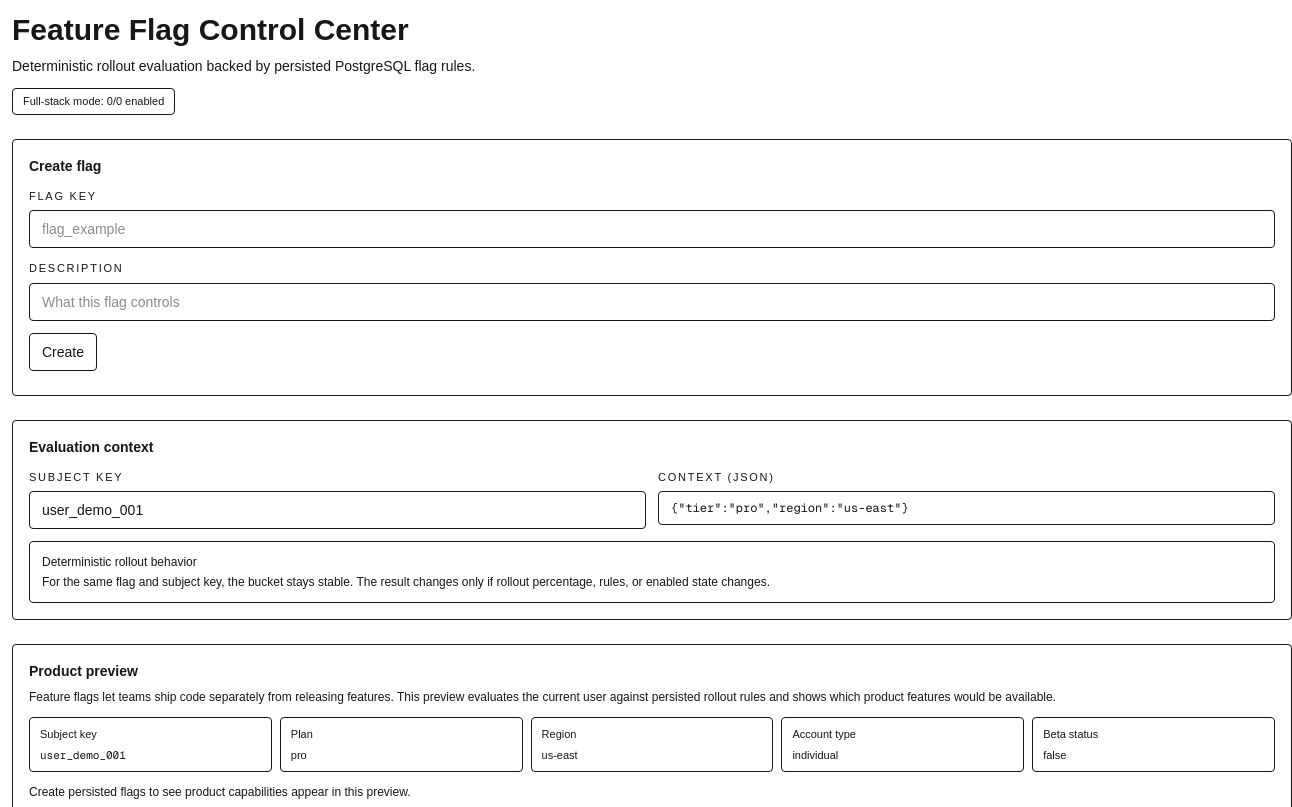
Test case: FlagsControlCenter › maps duplicate-key conflicts to a field error
In the field labelled "Flag key": (652, 229) [29, 210, 1275, 248], type "beta_dashboard"
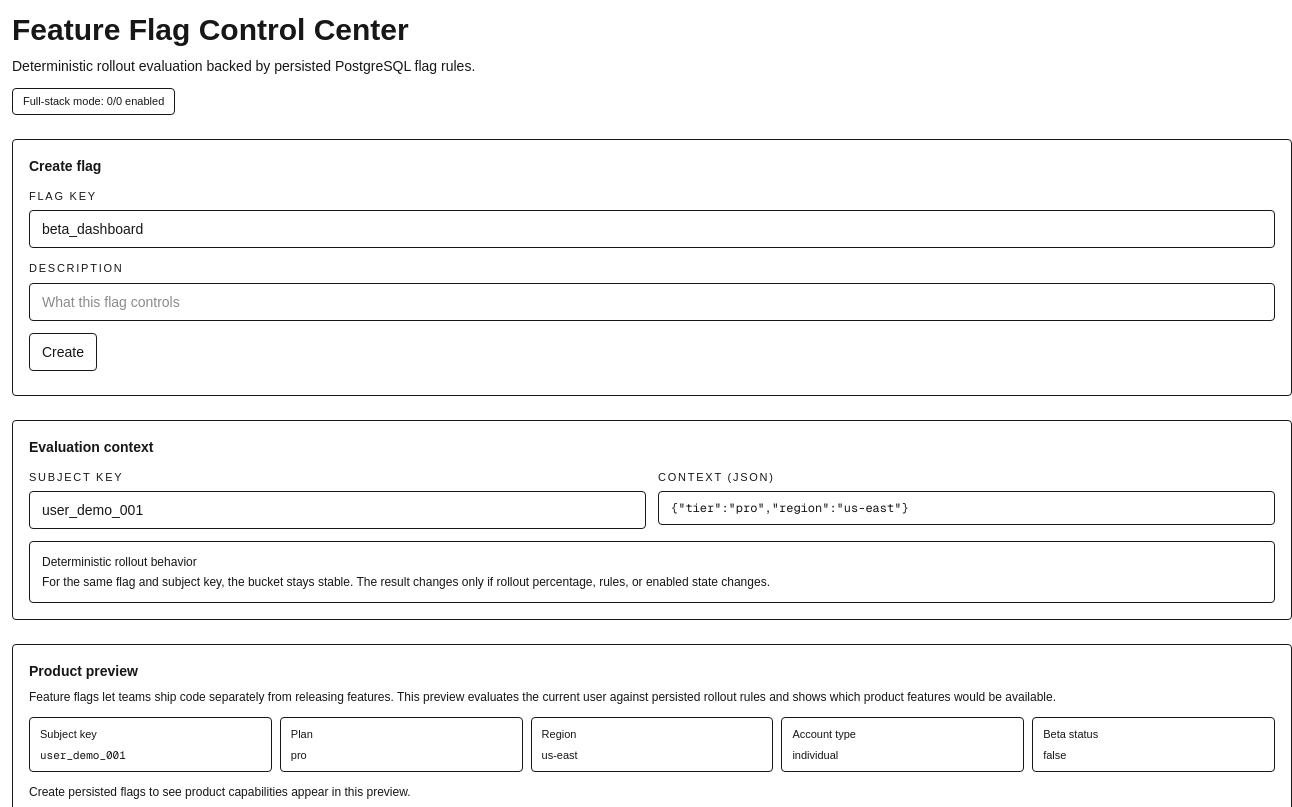
Click the button "Create": (63, 352) [29, 332, 97, 370]
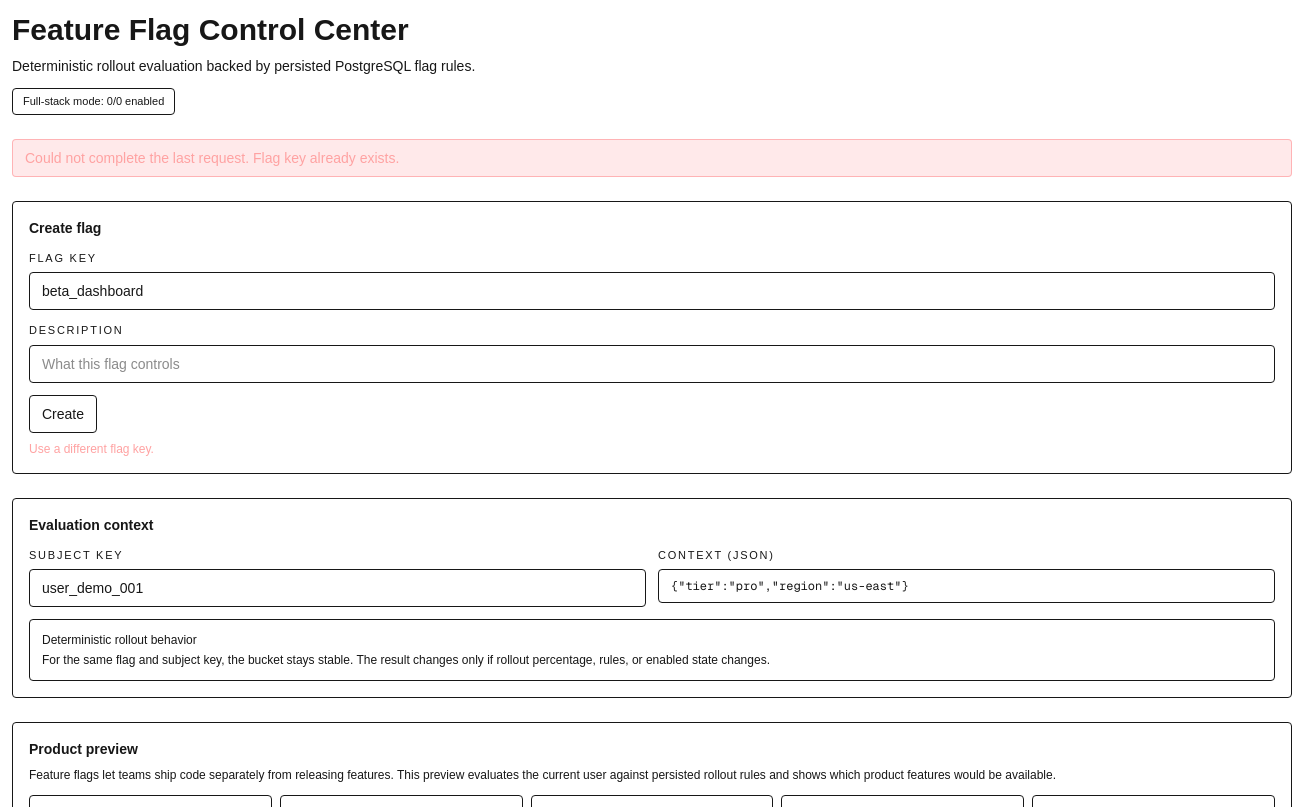
Now the text "Use a different flag key." is shown, box [29, 442, 154, 456]
Now the text "Flag key already exists." is shown, box [253, 150, 399, 166]
